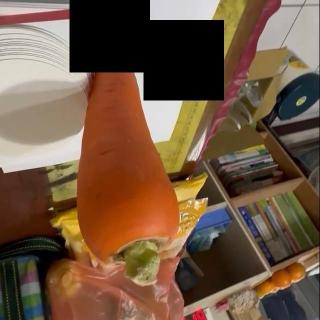carrot: (76, 44, 182, 288)
